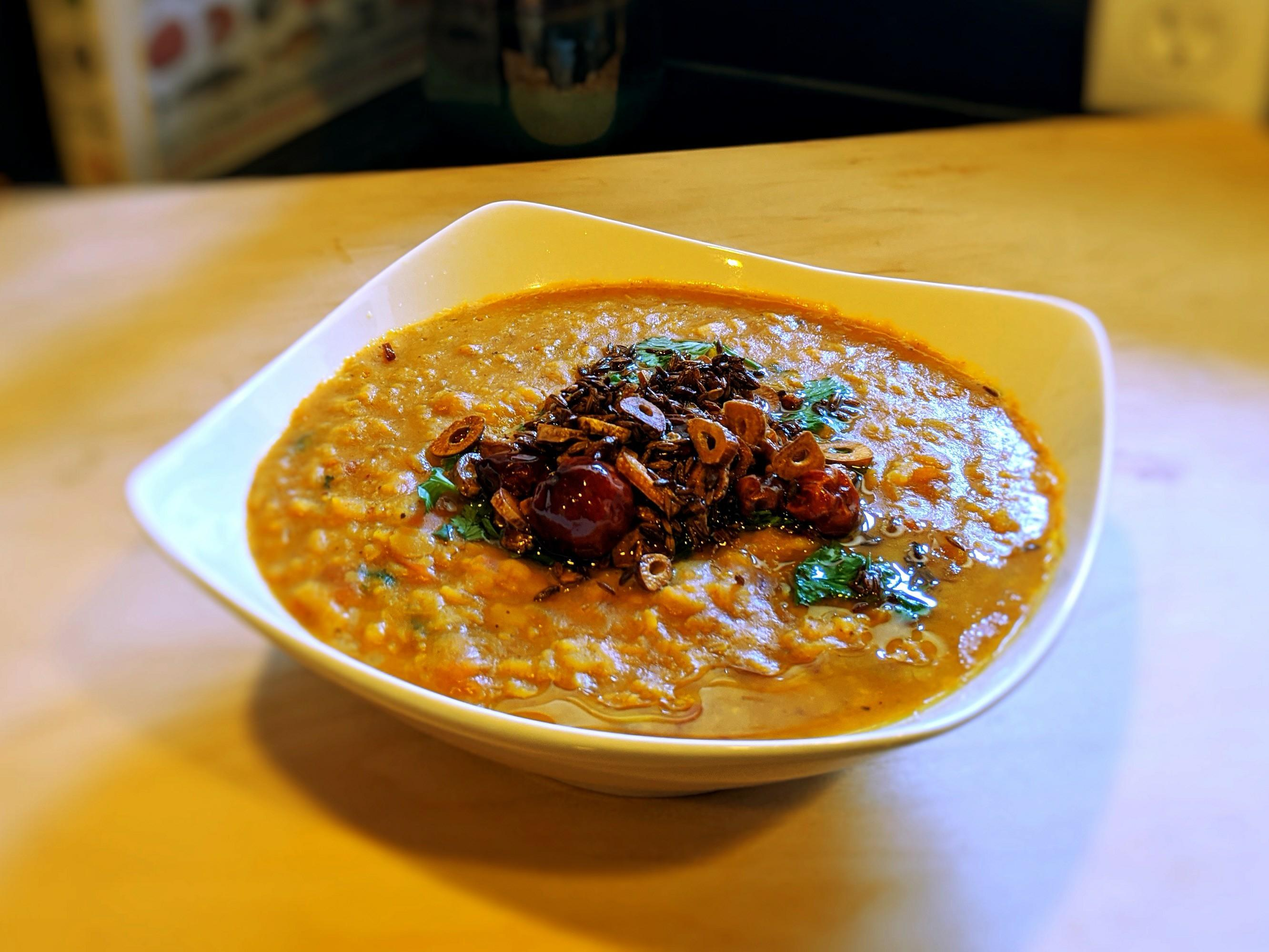Dal: (249, 282, 1056, 738)
